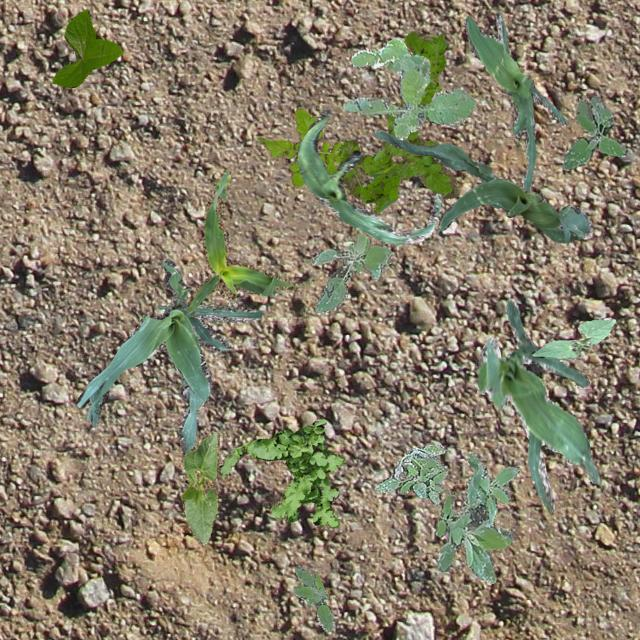crop: (75, 258, 262, 456), (476, 297, 600, 514), (374, 128, 592, 242), (296, 108, 439, 245), (462, 12, 566, 192), (186, 168, 298, 312), (51, 8, 122, 86), (180, 431, 218, 544), (530, 316, 614, 358)
weed: (336, 29, 458, 198), (216, 418, 344, 526), (342, 36, 474, 138), (434, 450, 518, 582), (256, 106, 344, 188), (309, 234, 392, 312), (560, 94, 626, 170), (374, 444, 446, 504), (358, 148, 399, 214), (292, 564, 332, 630)
